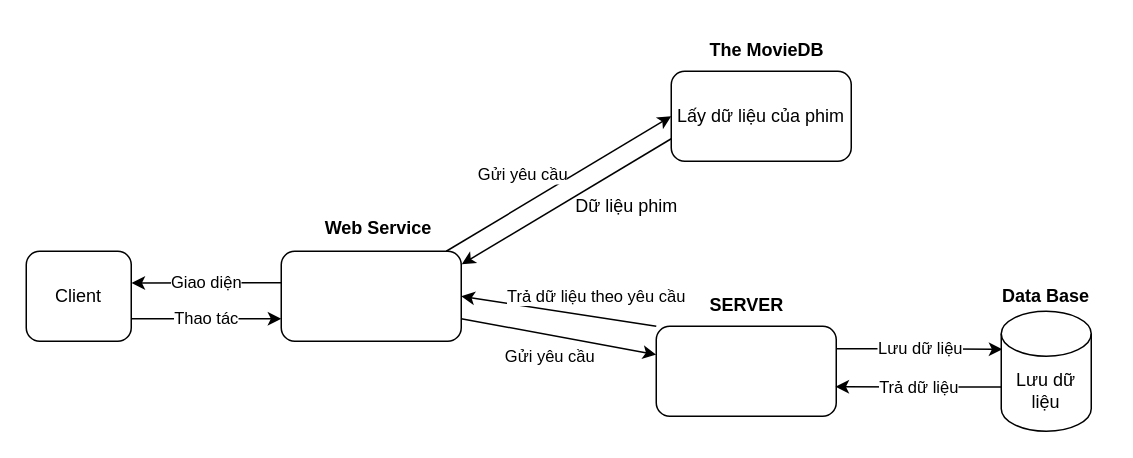
Image size: 1133x458. Some labels were removed from this diagram. Each missing label, with the centre of its shape:
Lấy dữ liệu từ server và từ The MovieDB Api để hiển thị cho người dùng: (370,295)
Quản lý thông tin người dùng, đánh giá, reviews, các bài báo, các bài khảo sát: (745,370)
